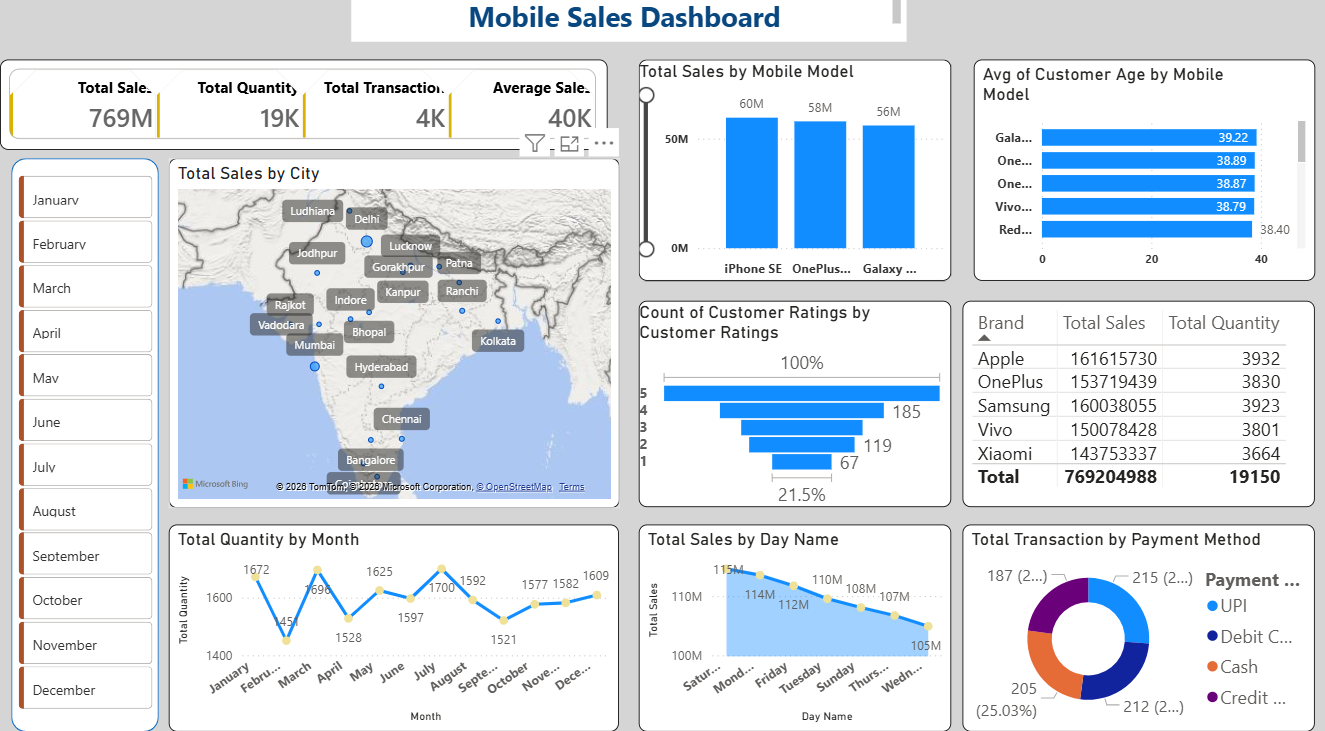

The page's visual inventory and layout, read from the dashboard file:
{"tool":"powerbi","page":{"name":"Page 1","canvas":[1280,720],"ordinal":0},"visuals":[{"type":"shape","box":[10.9,160.5,142.4,553.8],"z":0},{"type":"advancedSlicerVisual","fields":{"Values":["Sheet1.Date.Variation.Date Hierarchy.Month"]},"box":[13.3,172.5,139.9,524.8],"z":1000},{"type":"cardVisual","fields":{"Data":["Sales_Data.Total Sales","Sales_Data.Total Quantity","Sales_Data.Total Transaction","Sales_Data.Average"]},"box":[0,65.1,586.3,86.9],"z":2000},{"type":"map","fields":{"Category":["Sales_Data.City"],"Size":["Sales_Data.Total Sales"]},"box":[162.9,160.5,435.5,337.8],"z":3000},{"type":"lineChart","fields":{"Category":["Sales_Data.Date.Variation.Date Hierarchy.Month","Sales_Data.Date.Variation.Date Hierarchy.Day"],"Y":["Sales_Data.Total Quantity"]},"box":[162.9,513.9,434.3,200.3],"z":4000},{"type":"clusteredColumnChart","fields":{"Category":["Sales_Data.Mobile Model"],"Y":["Sales_Data.Total Sales"]},"box":[616.5,65.1,301.6,213.5],"z":5000},{"type":"donutChart","fields":{"Category":["Sales_Data.Payment Method"],"Y":["Sales_Data.Total Transaction"]},"box":[929,513.9,340.2,200.3],"z":6000},{"type":"funnel","fields":{"Category":["Sales_Data.Customer Ratings"],"Y":["CountNonNull(Sales_Data.Customer Ratings)"]},"box":[616.5,298,301.6,199.1],"z":7000},{"type":"areaChart","fields":{"Category":["Sales_Data.Day Name"],"Y":["Sales_Data.Total Sales"]},"box":[616.5,513.9,301.6,200.3],"z":8000},{"type":"tableEx","fields":{"Values":["Sales_Data.Brand","Sales_Data.Total Sales","Sales_Data.Total Quantity"]},"box":[929,298,340.2,199.1],"z":9000},{"type":"clusteredBarChart","fields":{"Y":["Avg(Sales_Data.Customer Age)"],"Category":["Sales_Data.Mobile Model"]},"box":[939.8,65.1,329.4,213.5],"z":10000},{"type":"textbox","box":[339,0,535.7,48.3],"z":11000}]}

Visuals, with their boxes in screenshot pixels (x1, y1, x2, y2), scaled from the page's 1280x720 canvas onto the 1325x731 screenshot:
shape: {"x1": 11, "y1": 163, "x2": 159, "y2": 725}
advancedSlicerVisual - Sheet1.Date.Variation.Date Hierarchy.Month: {"x1": 14, "y1": 175, "x2": 159, "y2": 708}
cardVisual - Sales_Data.Total Sales x Sales_Data.Total Quantity: {"x1": 0, "y1": 66, "x2": 607, "y2": 154}
map - Sales_Data.City x Sales_Data.Total Sales: {"x1": 169, "y1": 163, "x2": 619, "y2": 506}
lineChart - Sales_Data.Date.Variation.Date Hierarchy.Month x Sales_Data.Date.Variation.Date Hierarchy.Day: {"x1": 169, "y1": 522, "x2": 618, "y2": 725}
clusteredColumnChart - Sales_Data.Mobile Model x Sales_Data.Total Sales: {"x1": 638, "y1": 66, "x2": 950, "y2": 283}
donutChart - Sales_Data.Payment Method x Sales_Data.Total Transaction: {"x1": 962, "y1": 522, "x2": 1314, "y2": 725}
funnel - Sales_Data.Customer Ratings x CountNonNull(Sales_Data.Customer Ratings): {"x1": 638, "y1": 303, "x2": 950, "y2": 505}
areaChart - Sales_Data.Day Name x Sales_Data.Total Sales: {"x1": 638, "y1": 522, "x2": 950, "y2": 725}
tableEx - Sales_Data.Brand x Sales_Data.Total Sales: {"x1": 962, "y1": 303, "x2": 1314, "y2": 505}
clusteredBarChart - Avg(Sales_Data.Customer Age) x Sales_Data.Mobile Model: {"x1": 973, "y1": 66, "x2": 1314, "y2": 283}
textbox: {"x1": 351, "y1": 0, "x2": 905, "y2": 49}
